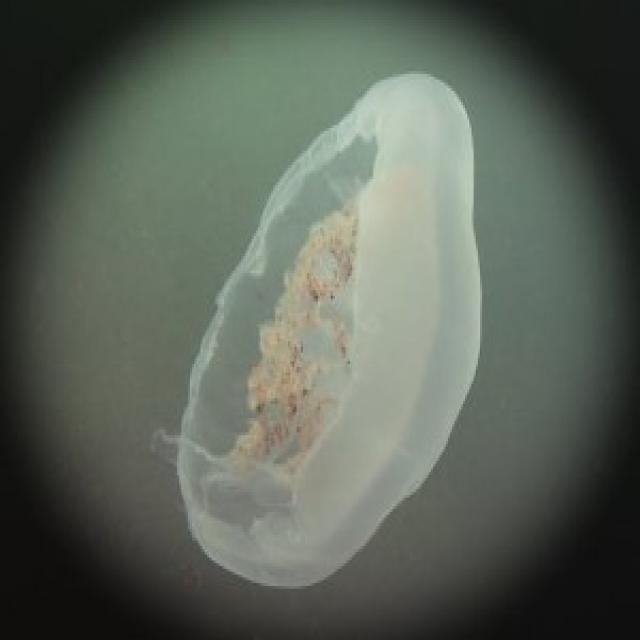Jellyfish: (146, 66, 491, 600)
